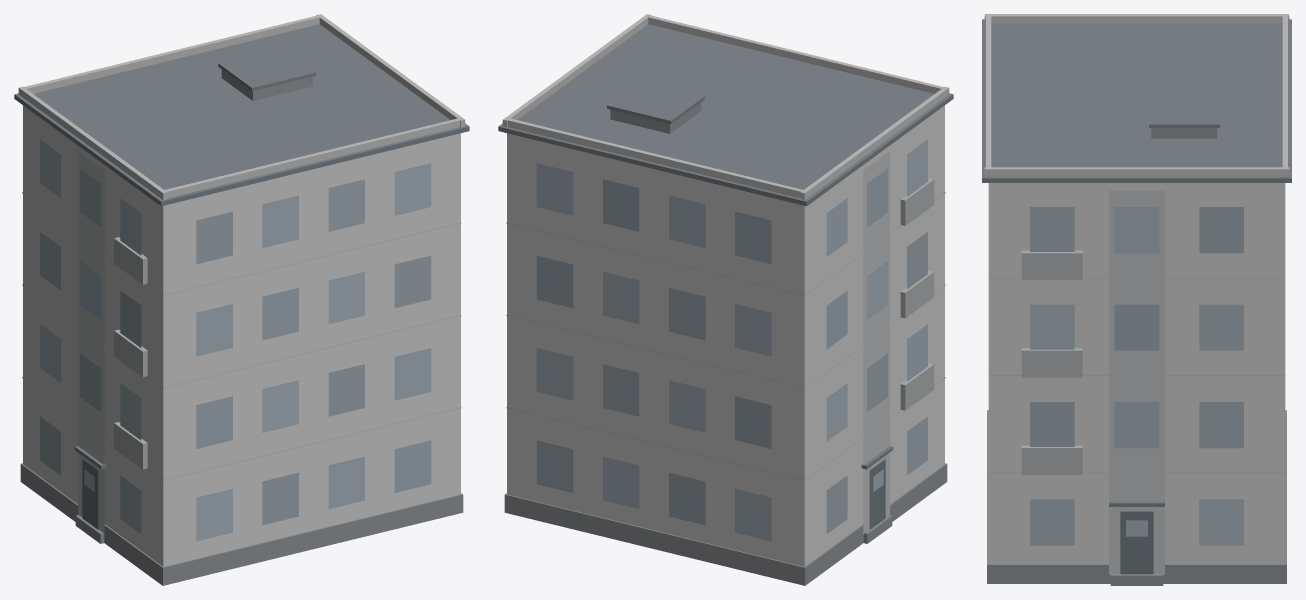
The model's file is block_1.glb.
The picture shows the model from 3 angles, left to right: view 1: azimuth 30°, elevation 25°; view 2: azimuth 150°, elevation 25°; view 3: azimuth 270°, elevation 25°; orthographic projection. The views are drawn at different scales.
Visible parts, largest first — view 1: block_1; view 2: block_1; view 3: block_1.
Part boxes in pixels (<box>): block_1: <box>14,14,469,585</box>; block_1: <box>498,14,953,585</box>; block_1: <box>982,14,1291,585</box>.
Bounding box in the file's own units: 11.4 × 14.17 × 9.4.
